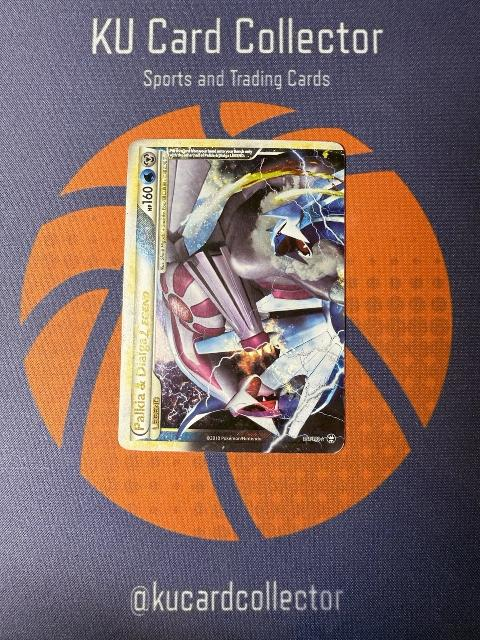Card: (114, 137, 349, 458)
Name: (129, 286, 160, 435)
